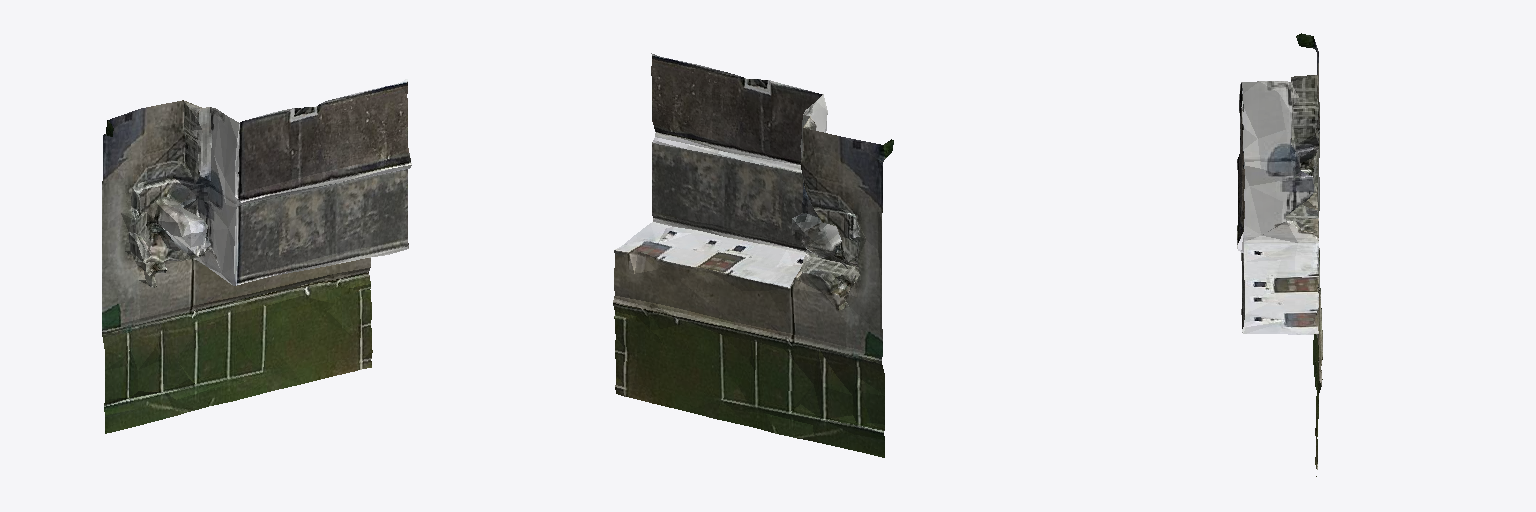
The picture shows the model from 3 angles: view 1: azimuth 30°, elevation 25°; view 2: azimuth 150°, elevation 25°; view 3: azimuth 270°, elevation 25°; orthographic projection.
Visible parts, largest first — view 1: obj_0; view 2: obj_0; view 3: obj_0.
Part boxes in pixels (x1,y1,x2,y2): obj_0: (102,79,411,433); obj_0: (613,53,893,457); obj_0: (1237,33,1322,476).
Bounding box in the file's own units: 20.08 × 22.53 × 5.64.
1 materials, 1 textured.